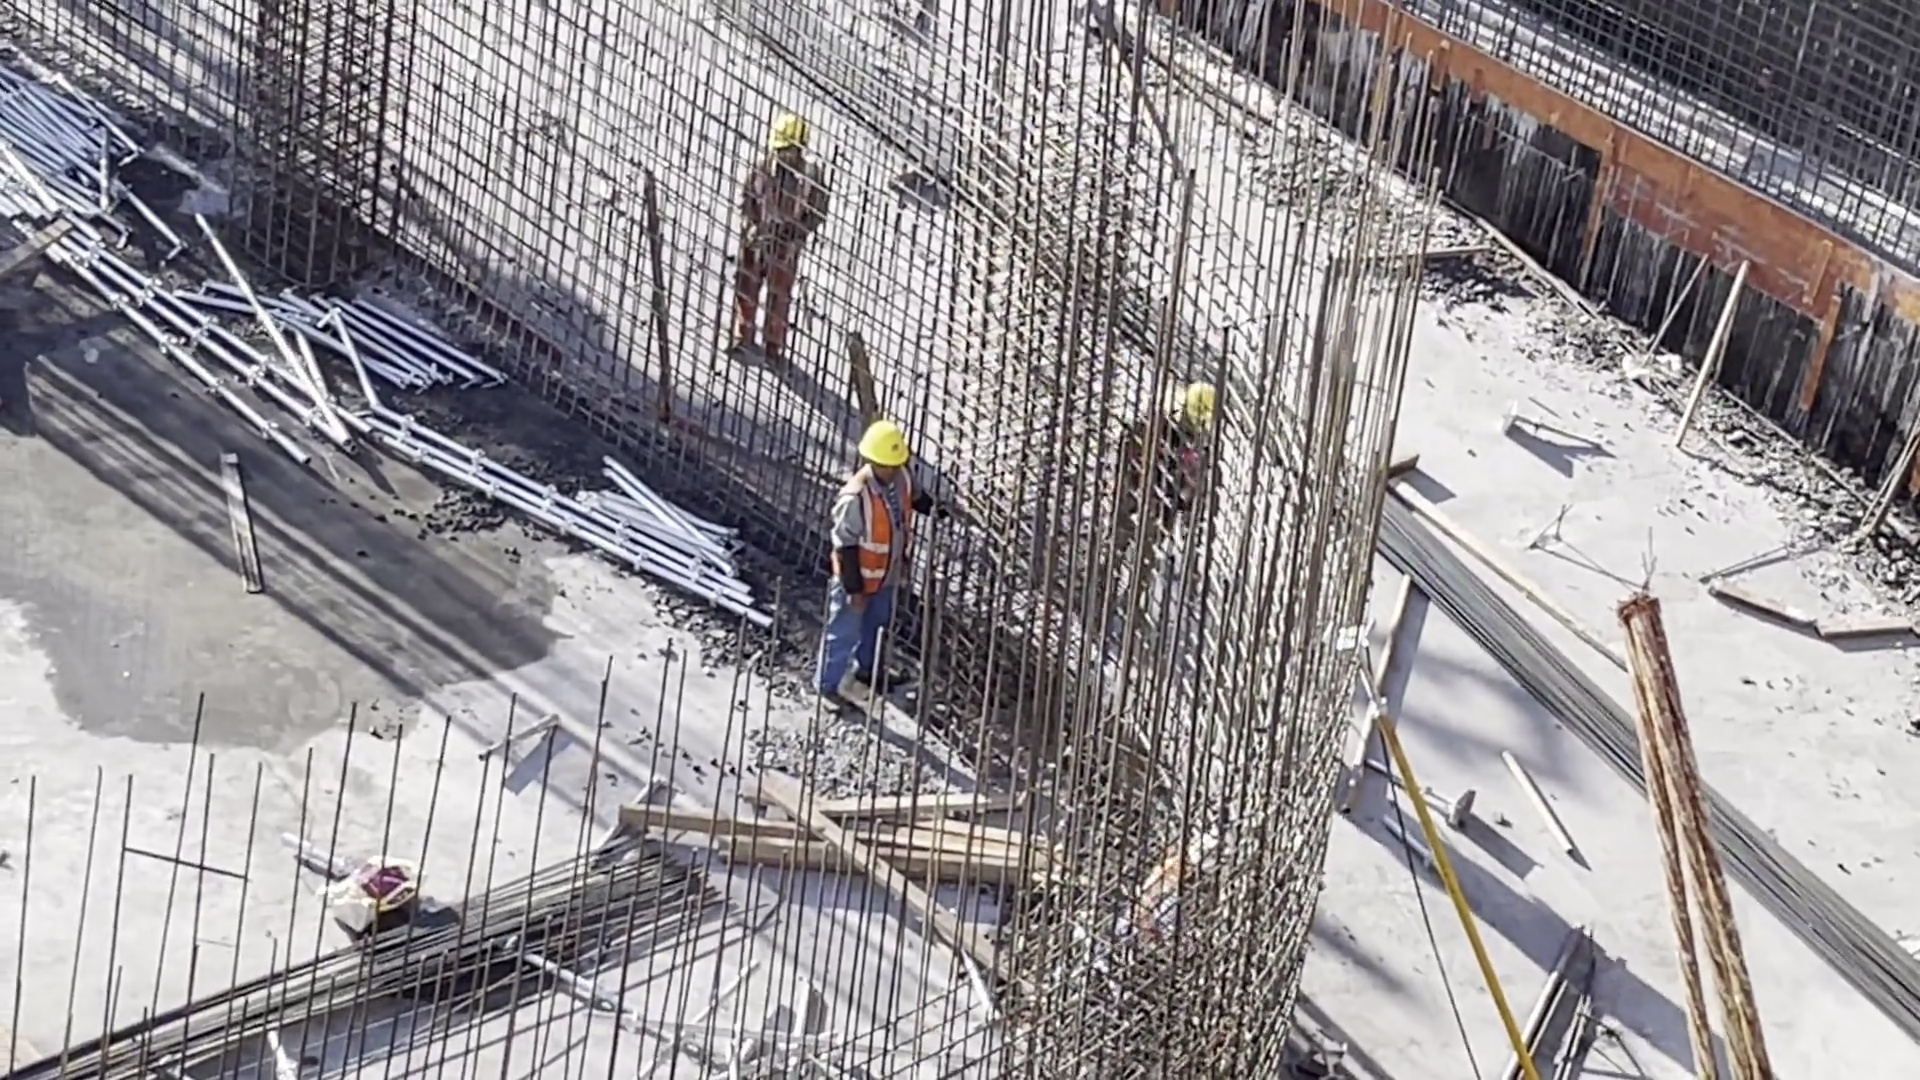helmet: (1189, 385, 1238, 424), (862, 419, 904, 463), (1192, 834, 1238, 867), (773, 119, 808, 148)
person: (825, 420, 930, 706), (1118, 375, 1233, 605), (745, 113, 837, 360), (1122, 813, 1256, 928)
rebar: (1345, 494, 1920, 1045), (93, 846, 704, 1080)
scaffold: (206, 252, 483, 418), (552, 445, 773, 636), (1, 60, 137, 217)
vest: (846, 477, 922, 591), (1141, 425, 1205, 527), (760, 155, 820, 240), (1134, 867, 1200, 941)
